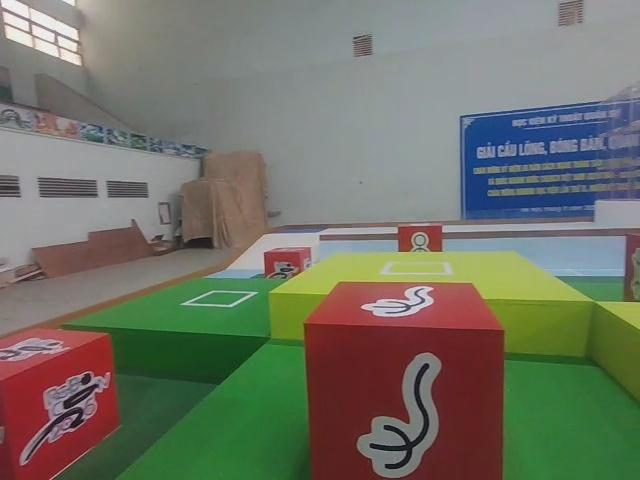R1: (2, 329, 121, 480), (261, 243, 314, 284)
R2 Real: (301, 279, 506, 480)
